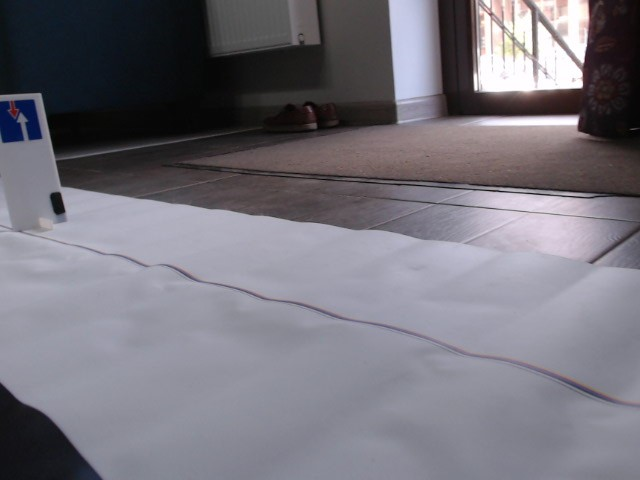priority_movement: (1, 98, 43, 144)
